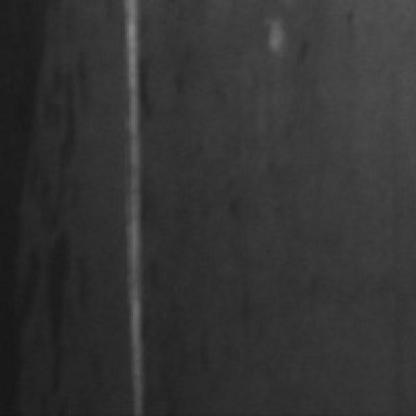scratches: (118, 0, 156, 412)
